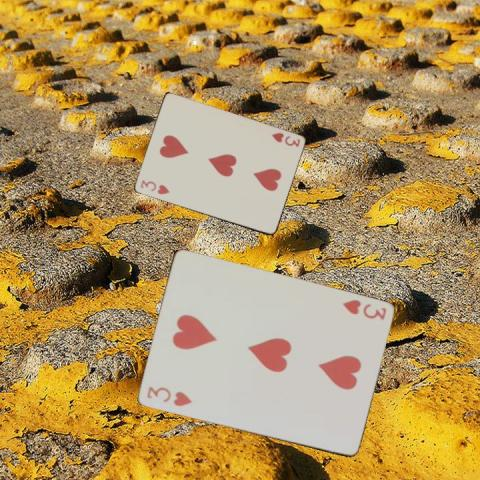3h: (143, 383, 193, 408), (340, 297, 388, 321), (137, 177, 171, 196), (269, 129, 301, 149)
